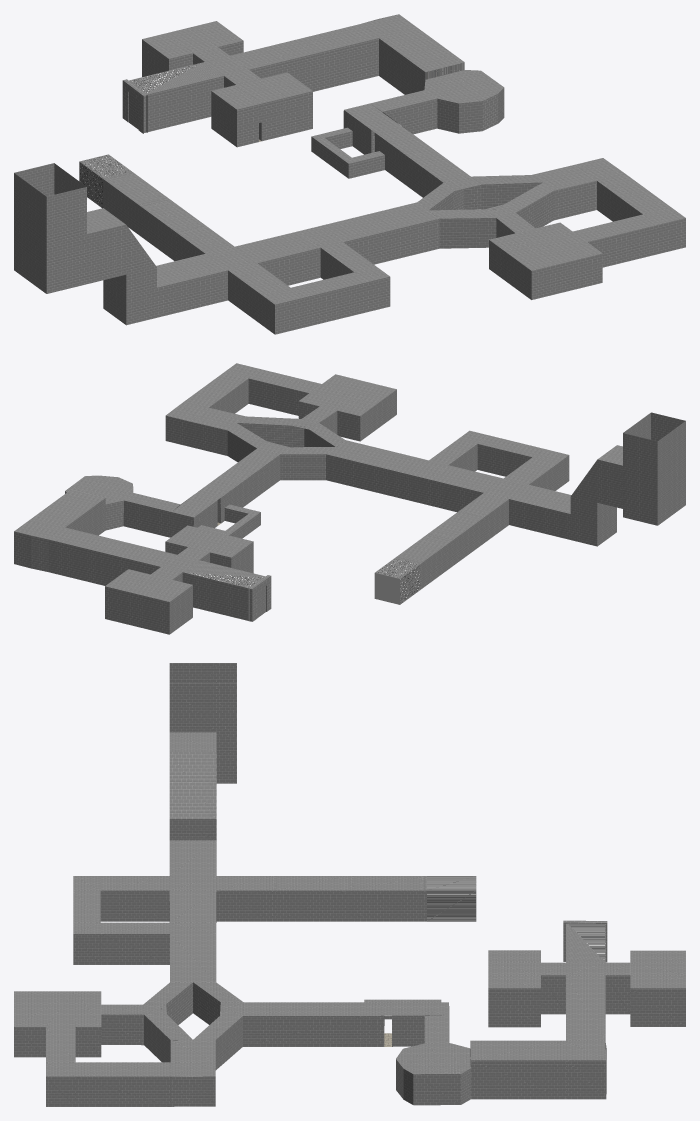
File: catacombs2.fbx
The picture shows the model from 3 angles, top to bottom: view 1: azimuth 30°, elevation 25°; view 2: azimuth 150°, elevation 25°; view 3: azimuth 270°, elevation 25°; orthographic projection. The views are drawn at different scales.
Parts seen in each view (by area): view 1: Plane, Plane.003; view 2: Plane, Plane.003; view 3: Plane.
Part boxes in pixels (bbox=[...]): Plane: bbox=[14, 14, 685, 334]; Plane.003: bbox=[122, 79, 147, 133]; Plane: bbox=[14, 363, 685, 634]; Plane.003: bbox=[248, 575, 271, 621]; Plane: bbox=[14, 663, 685, 1106].
Bounding box in the file's own units: 12332 × 3012 × 12027.
